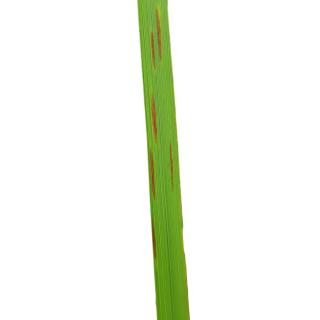Bercak-Cokelat-Sempit: (143, 5, 165, 73), (145, 144, 160, 202), (148, 92, 164, 144), (145, 212, 159, 262), (166, 140, 178, 191)
